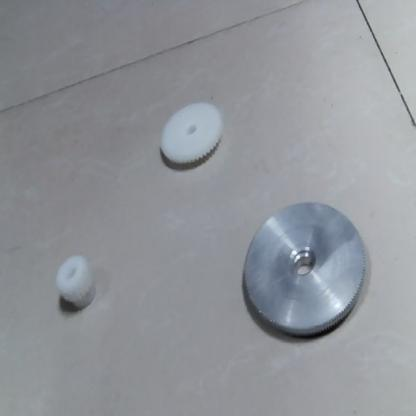FOD: (231, 198, 371, 340), (155, 97, 226, 169), (49, 257, 101, 306)
